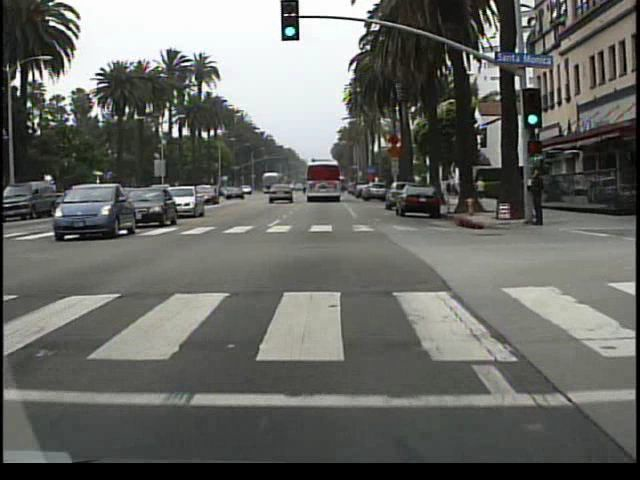person: (526, 163, 546, 228)
